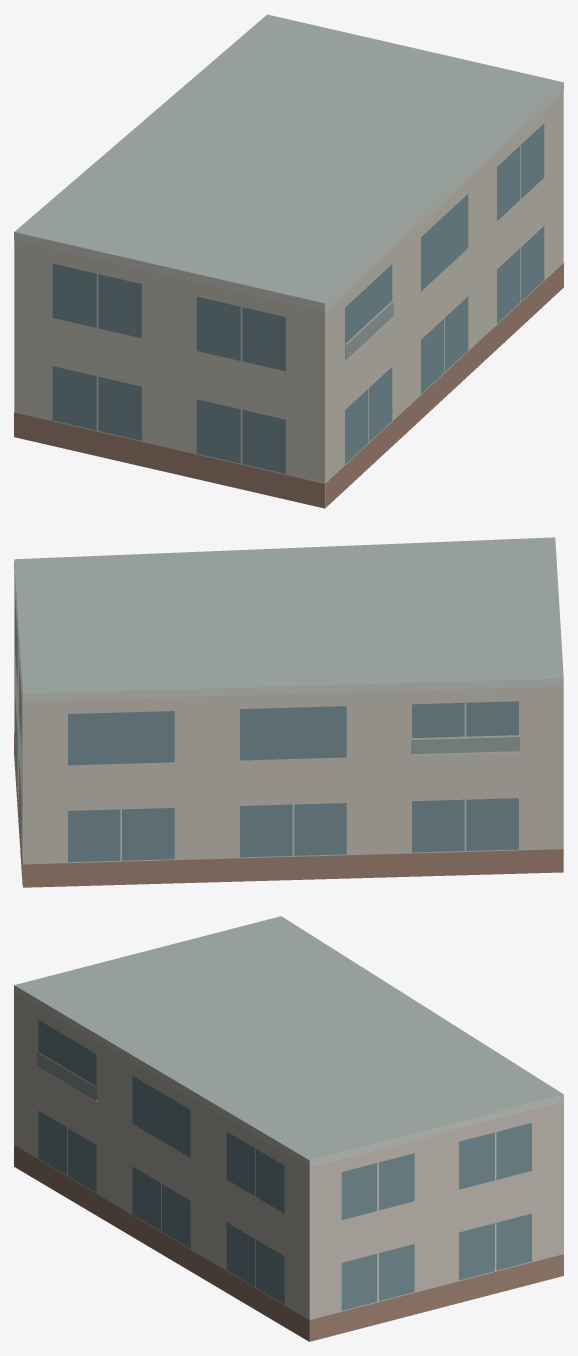
Rendered from survey-upis-32892667.glb.
3 renders of one model, top to bottom at view 1: azimuth 30°, elevation 25°; view 2: azimuth 150°, elevation 25°; view 3: azimuth 270°, elevation 25°, orthographic. The views are drawn at different scales.
Parts seen in each view (by area): view 1: survey-upis-32892667.tmp; view 2: survey-upis-32892667.tmp; view 3: survey-upis-32892667.tmp.
Boxes of the visible parts, bbox=[...] form: survey-upis-32892667.tmp: bbox=[14, 14, 563, 508]; survey-upis-32892667.tmp: bbox=[14, 537, 563, 887]; survey-upis-32892667.tmp: bbox=[14, 916, 563, 1341].
Size of the model in its own units: 17.62 by 6.1 by 16.75.
